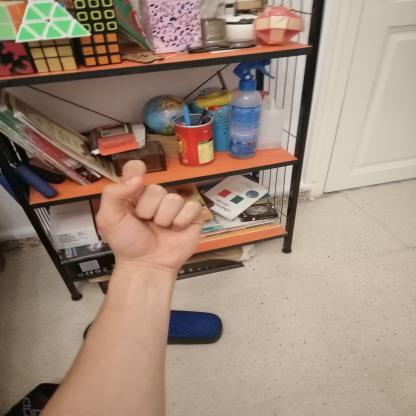FAA: (82, 152, 215, 279)
